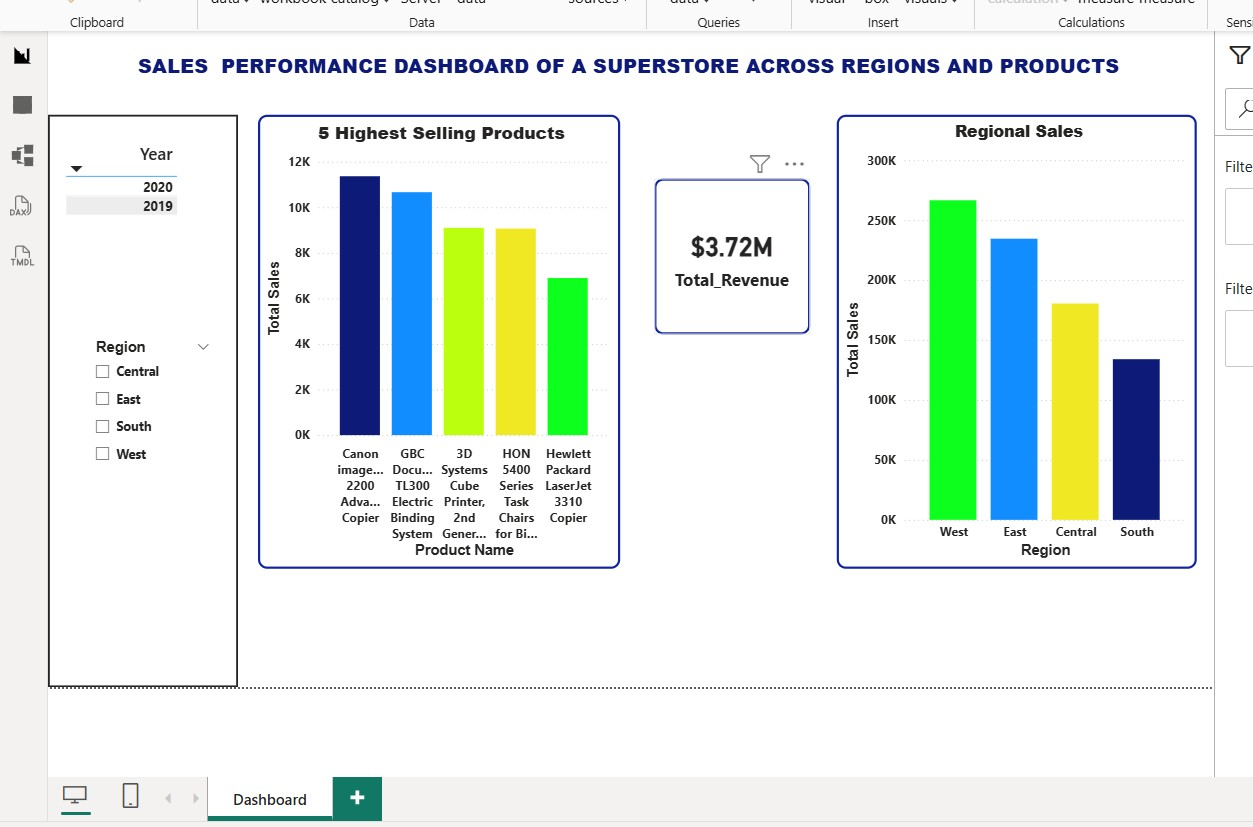

The dashboard page shown, as its layout file describes it:
{"tool":"powerbi","page":{"name":"Dashboard","canvas":[1280,720],"ordinal":0},"visuals":[{"type":"shape","box":[0,91.9,208.6,628.5],"z":0},{"type":"tableEx","fields":{"Values":["Sheet1.Order Date.Variation.Date Hierarchy.Year"]},"box":[13.7,115.3,142.7,145.5],"z":1000},{"type":"card","fields":{"Values":["Sheet1.Total_Revenue"]},"box":[665.5,161.9,171.5,171.5],"z":2000},{"type":"columnChart","title":"5 Highest Selling Products","fields":{"Y":["Sheet1.Top_5_Sales"],"Category":["Sheet1.Product Name"]},"box":[230.5,91.9,397.9,498.1],"z":3000},{"type":"columnChart","title":"Regional Sales","fields":{"Category":["Sheet1.Region"],"Y":["Sheet1.Total_Sales"]},"box":[865.9,91.9,395.2,498.1],"z":4000},{"type":"slicer","title":"Region","fields":{"Values":["Sheet1.Region"]},"box":[39.8,333.4,149.6,234.6],"z":5000},{"type":"textbox","box":[13.7,0,1247.3,81],"z":8000}]}

Visuals, with their boxes on the page's 1280x720 design canvas (x1, y1, x2, y2). These are canvas units, not pixel positions in the 1253x827 screenshot, which may show the page scaled, cropped or inside an application window:
shape: (left=0, top=92, right=209, bottom=720)
tableEx - Sheet1.Order Date.Variation.Date Hierarchy.Year: (left=14, top=115, right=156, bottom=261)
card - Sheet1.Total_Revenue: (left=666, top=162, right=837, bottom=333)
"5 Highest Selling Products" columnChart: (left=230, top=92, right=628, bottom=590)
"Regional Sales" columnChart: (left=866, top=92, right=1261, bottom=590)
"Region" slicer: (left=40, top=333, right=189, bottom=568)
textbox: (left=14, top=0, right=1261, bottom=81)
